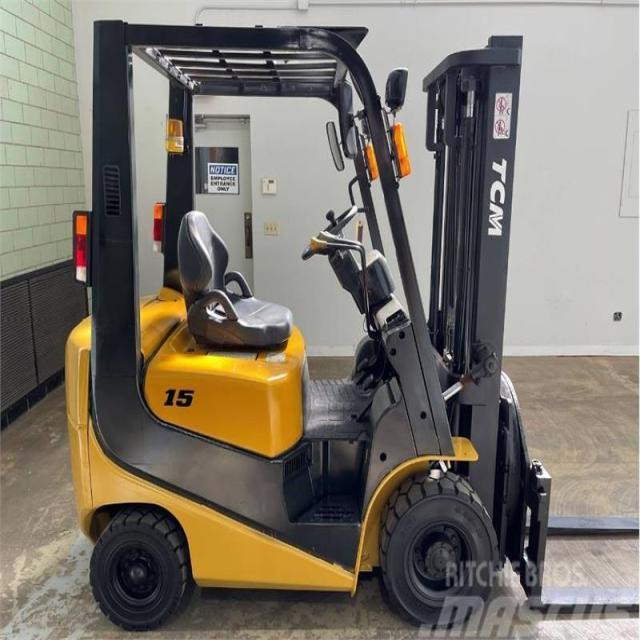forklift: (56, 12, 558, 626)
